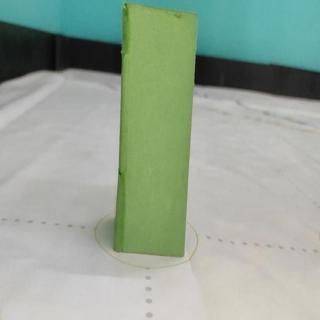greenbox: (112, 0, 201, 258)
